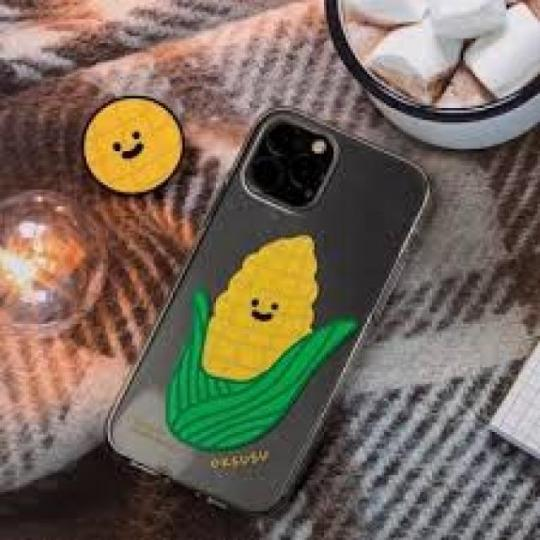phone: (92, 87, 441, 518)
